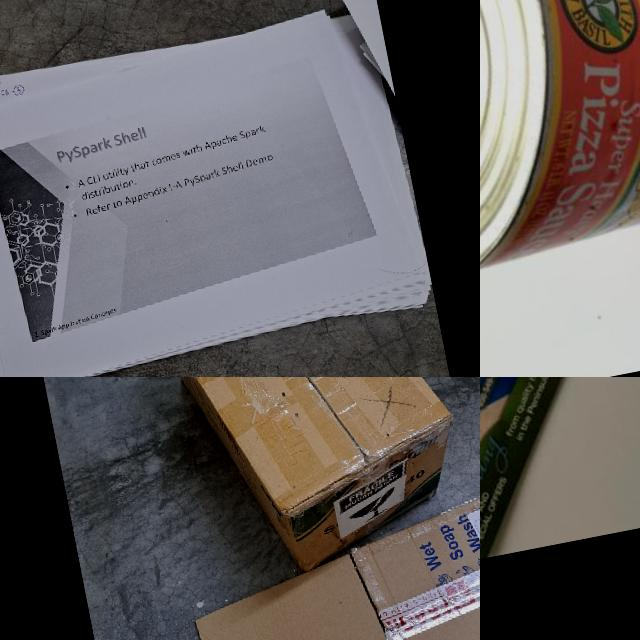lata: (480, 0, 640, 284)
papel: (0, 0, 438, 377), (480, 377, 640, 635)
papelão: (126, 377, 478, 595), (178, 465, 480, 640)
